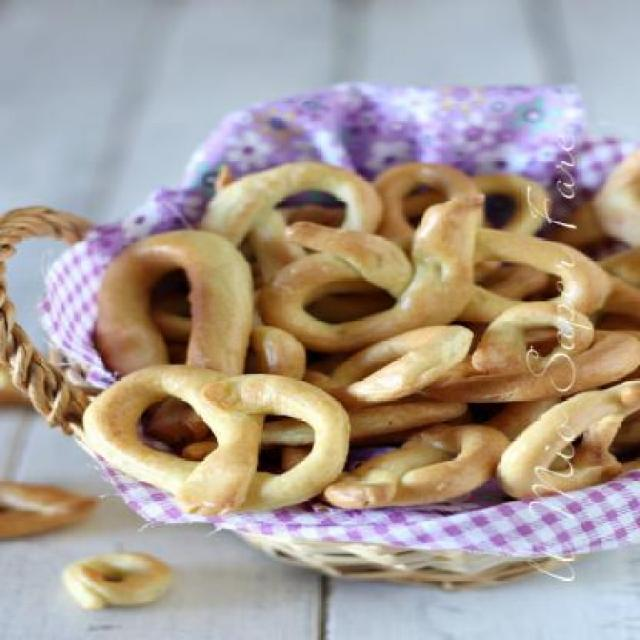Taralli: (95, 157, 628, 508)
